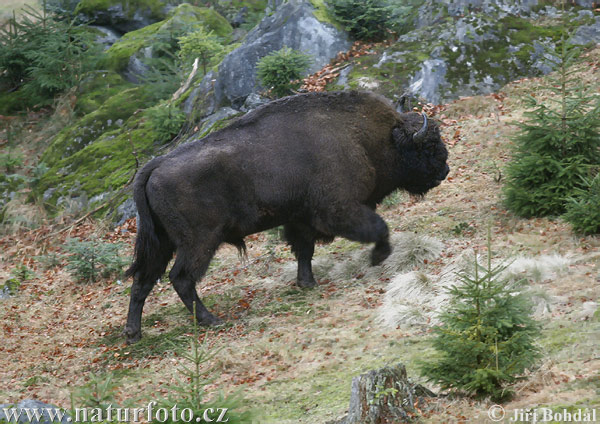zubr: (79, 61, 472, 325)
